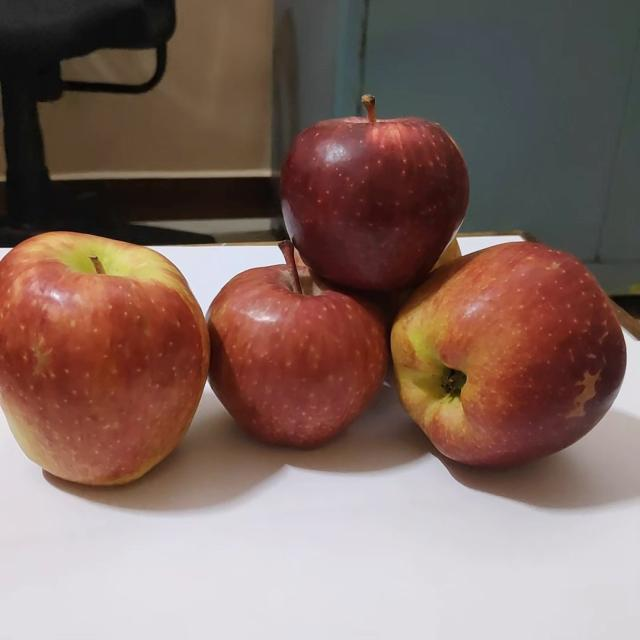apple: (384, 236, 626, 478), (1, 226, 210, 494), (274, 92, 474, 297), (197, 240, 389, 453), (412, 223, 472, 282)
